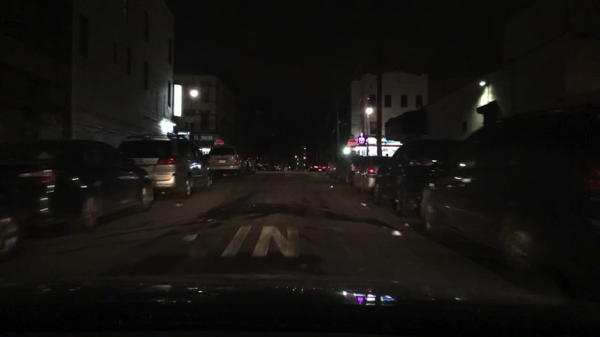car: (418, 103, 599, 280), (0, 138, 156, 231), (372, 138, 462, 219), (117, 133, 214, 198), (0, 186, 30, 259), (350, 156, 390, 195), (207, 146, 245, 178), (336, 154, 364, 186), (325, 156, 344, 178), (240, 152, 254, 175), (255, 157, 274, 172), (310, 162, 327, 172), (275, 163, 282, 172)
traffic sign: (212, 138, 225, 146), (347, 138, 356, 149), (177, 131, 191, 135)
